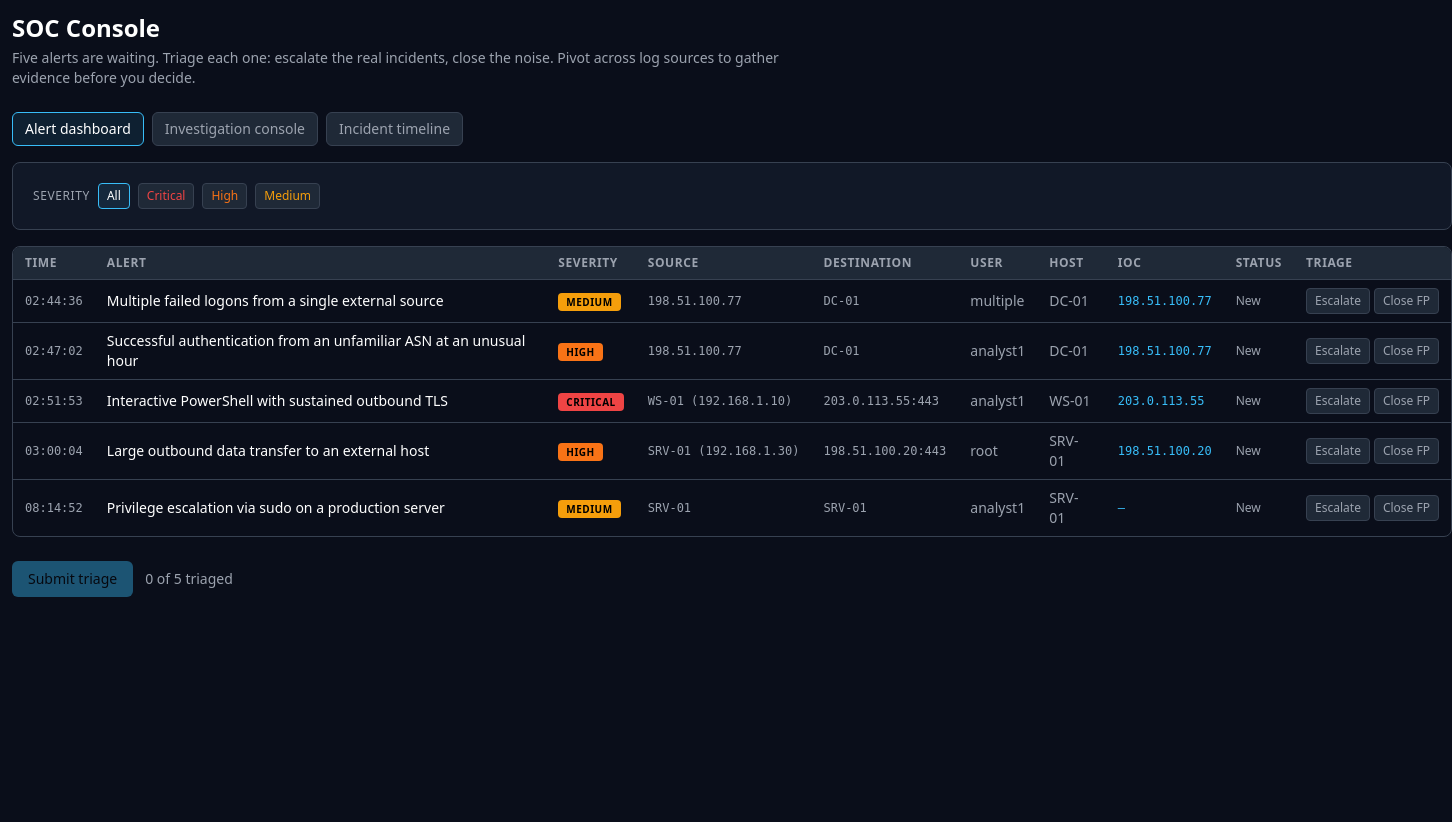
Test: SOC Console › reports honestly when a pivot finds nothing
Click the button "Investigation console" at (235, 129), box [152, 112, 318, 146]
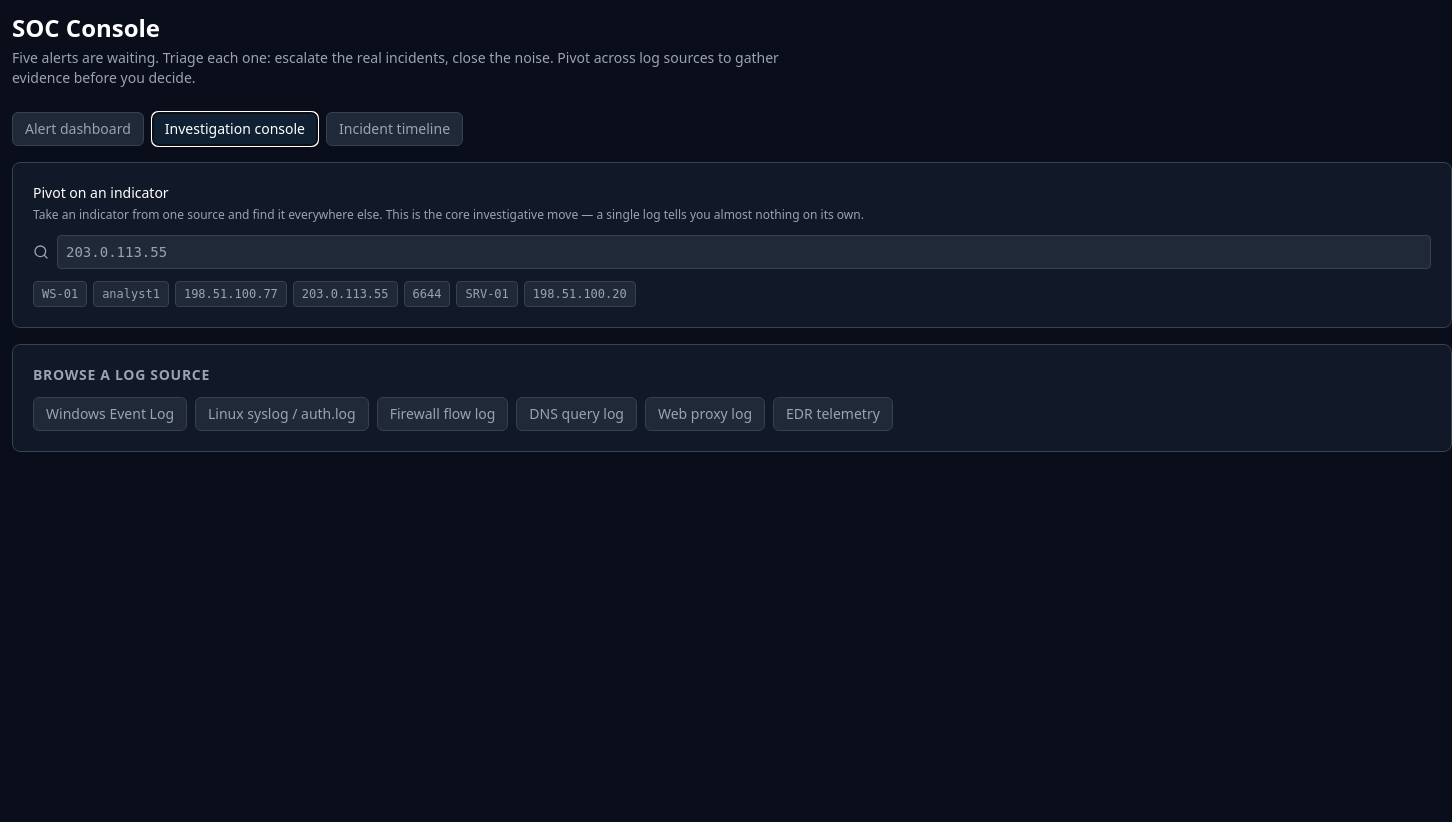
Type "192.0.2.99" into the field named "Pivot indicator" at (744, 252), box [57, 235, 1431, 269]
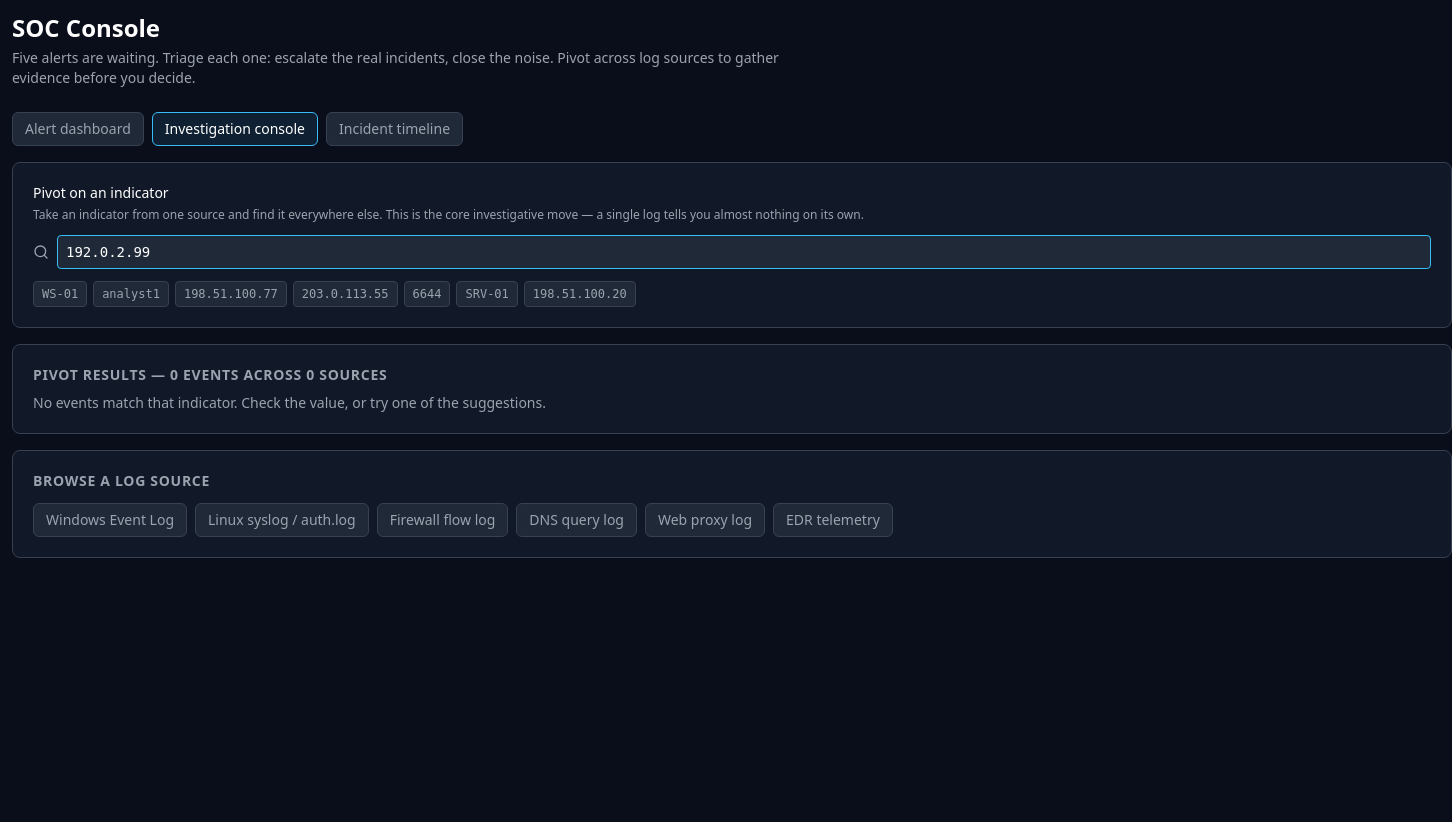
Now the text "No events match that indicator" is shown, box [33, 393, 546, 412]
